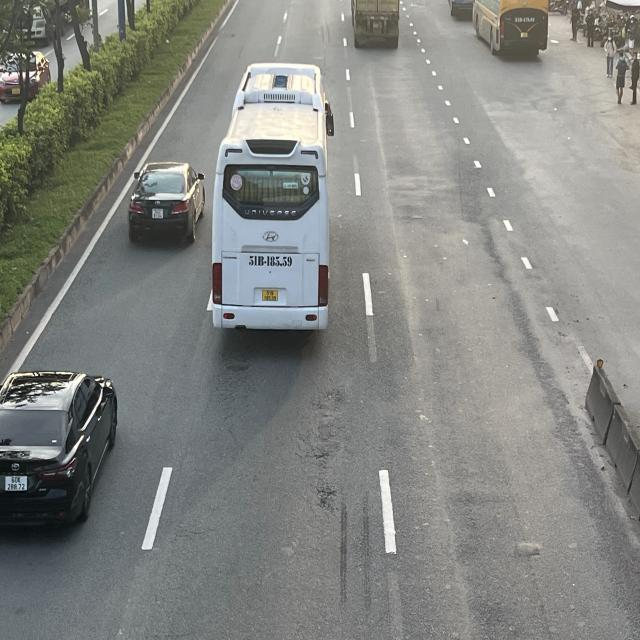car: (2, 368, 121, 526), (127, 164, 205, 248)
coach: (214, 60, 336, 332), (469, 1, 550, 56)
